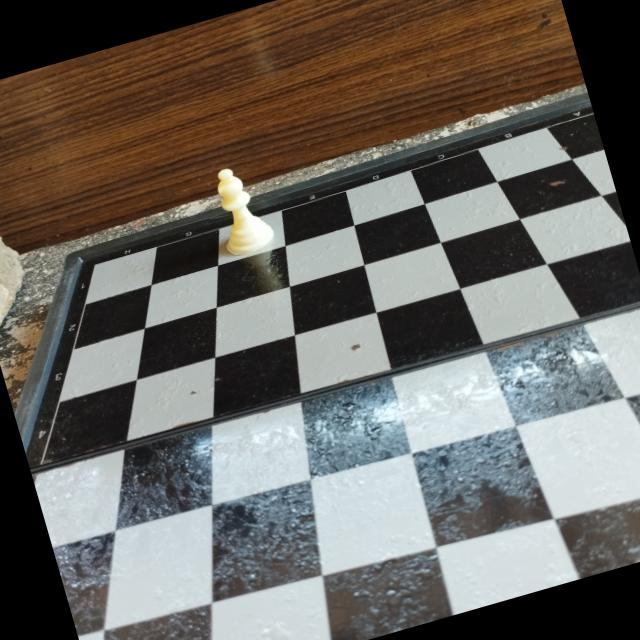White Bishop: (200, 154, 286, 264)
